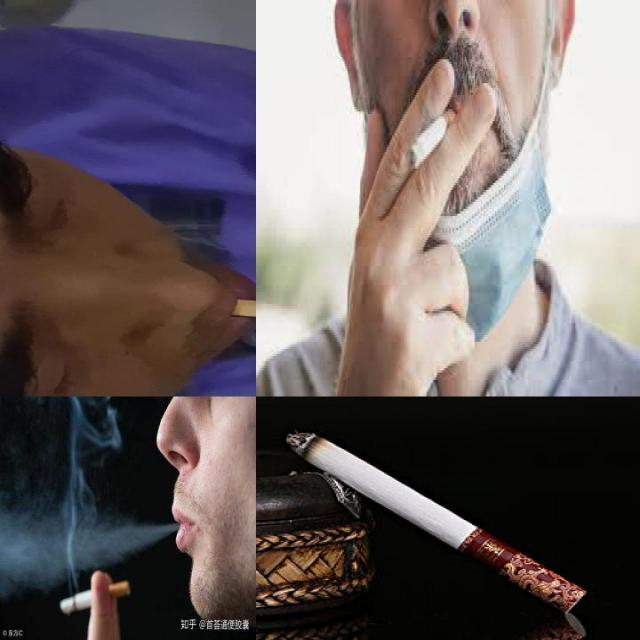cigarette: (284, 428, 590, 616), (407, 108, 456, 171), (60, 580, 131, 616)
